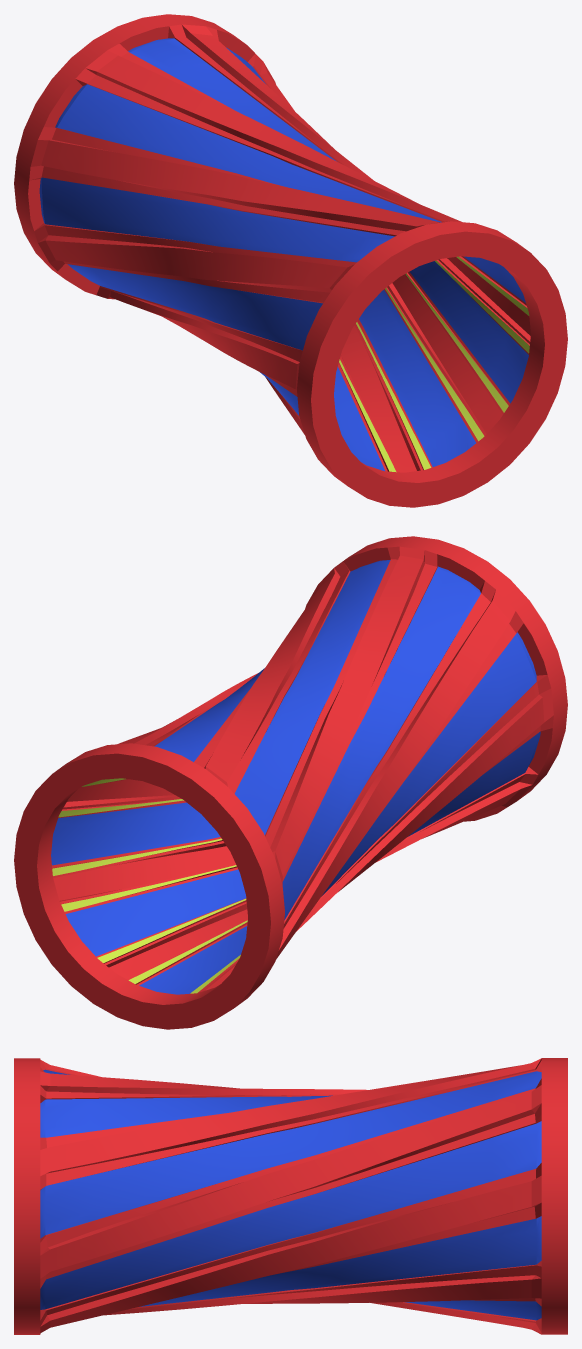
File: tunnel 1.fbx
3 views of the same model, one above another, from view 1: azimuth 30°, elevation 25°; view 2: azimuth 150°, elevation 25°; view 3: azimuth 270°, elevation 25° (orthographic). The views are drawn at different scales.
Parts seen in each view (by area): view 1: Tunnel.002; view 2: Tunnel.002; view 3: Tunnel.002.
Boxes of the visible parts, <box> form: Tunnel.002: <box>14,14,567,507</box>; Tunnel.002: <box>14,536,567,1029</box>; Tunnel.002: <box>14,1058,567,1334</box>.
Size of the model in its own units: 1000 by 1000 by 2000.
